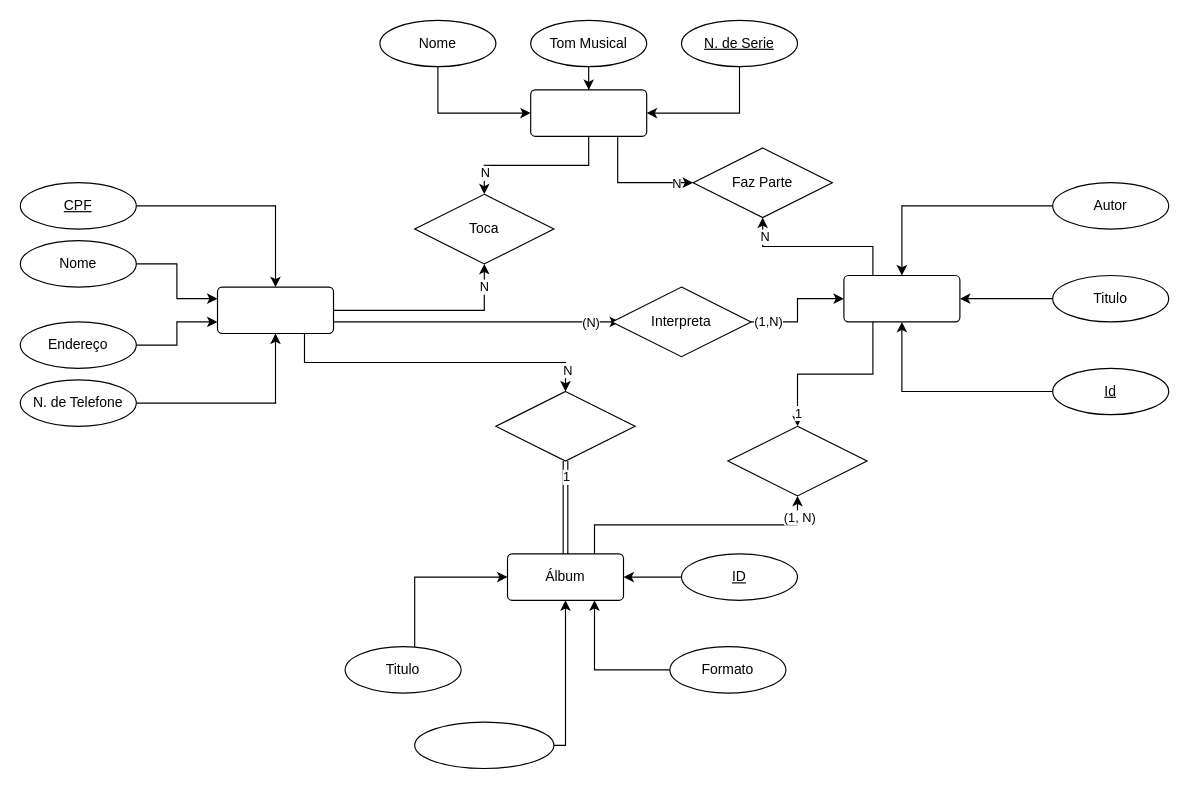
The diagram is 1189 pixels wide and 789 high, and some of its shapes have lost their labels. Here are the shapes that lost their labels. From the top down, the centre of each, then its label:
At point 588,112: "Instrumento".
At point 275,310: "Musico".
At point 901,298: "Musica".
At point 565,425: "Produz".
At point 797,460: "Tem".
At point 484,744: "Data de Direito Autorais".
